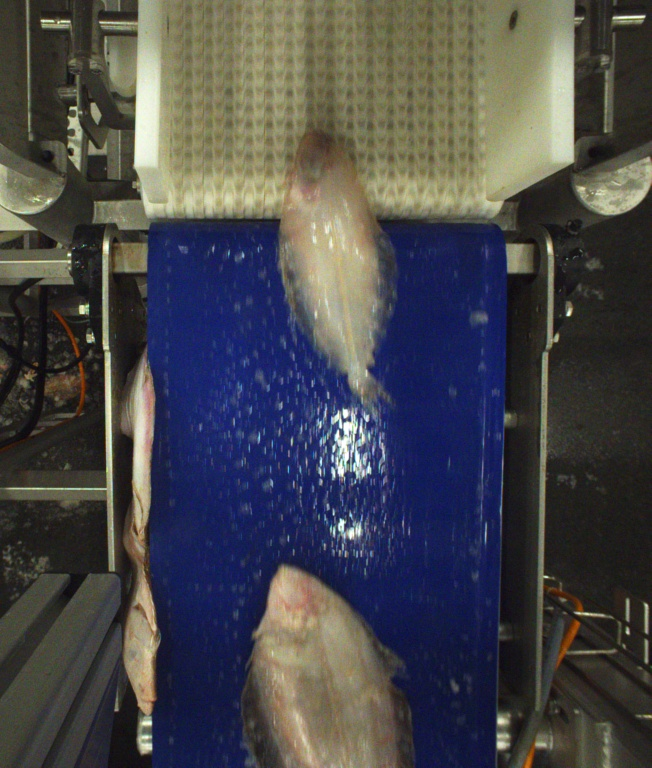WIT: (277, 129, 397, 421)
